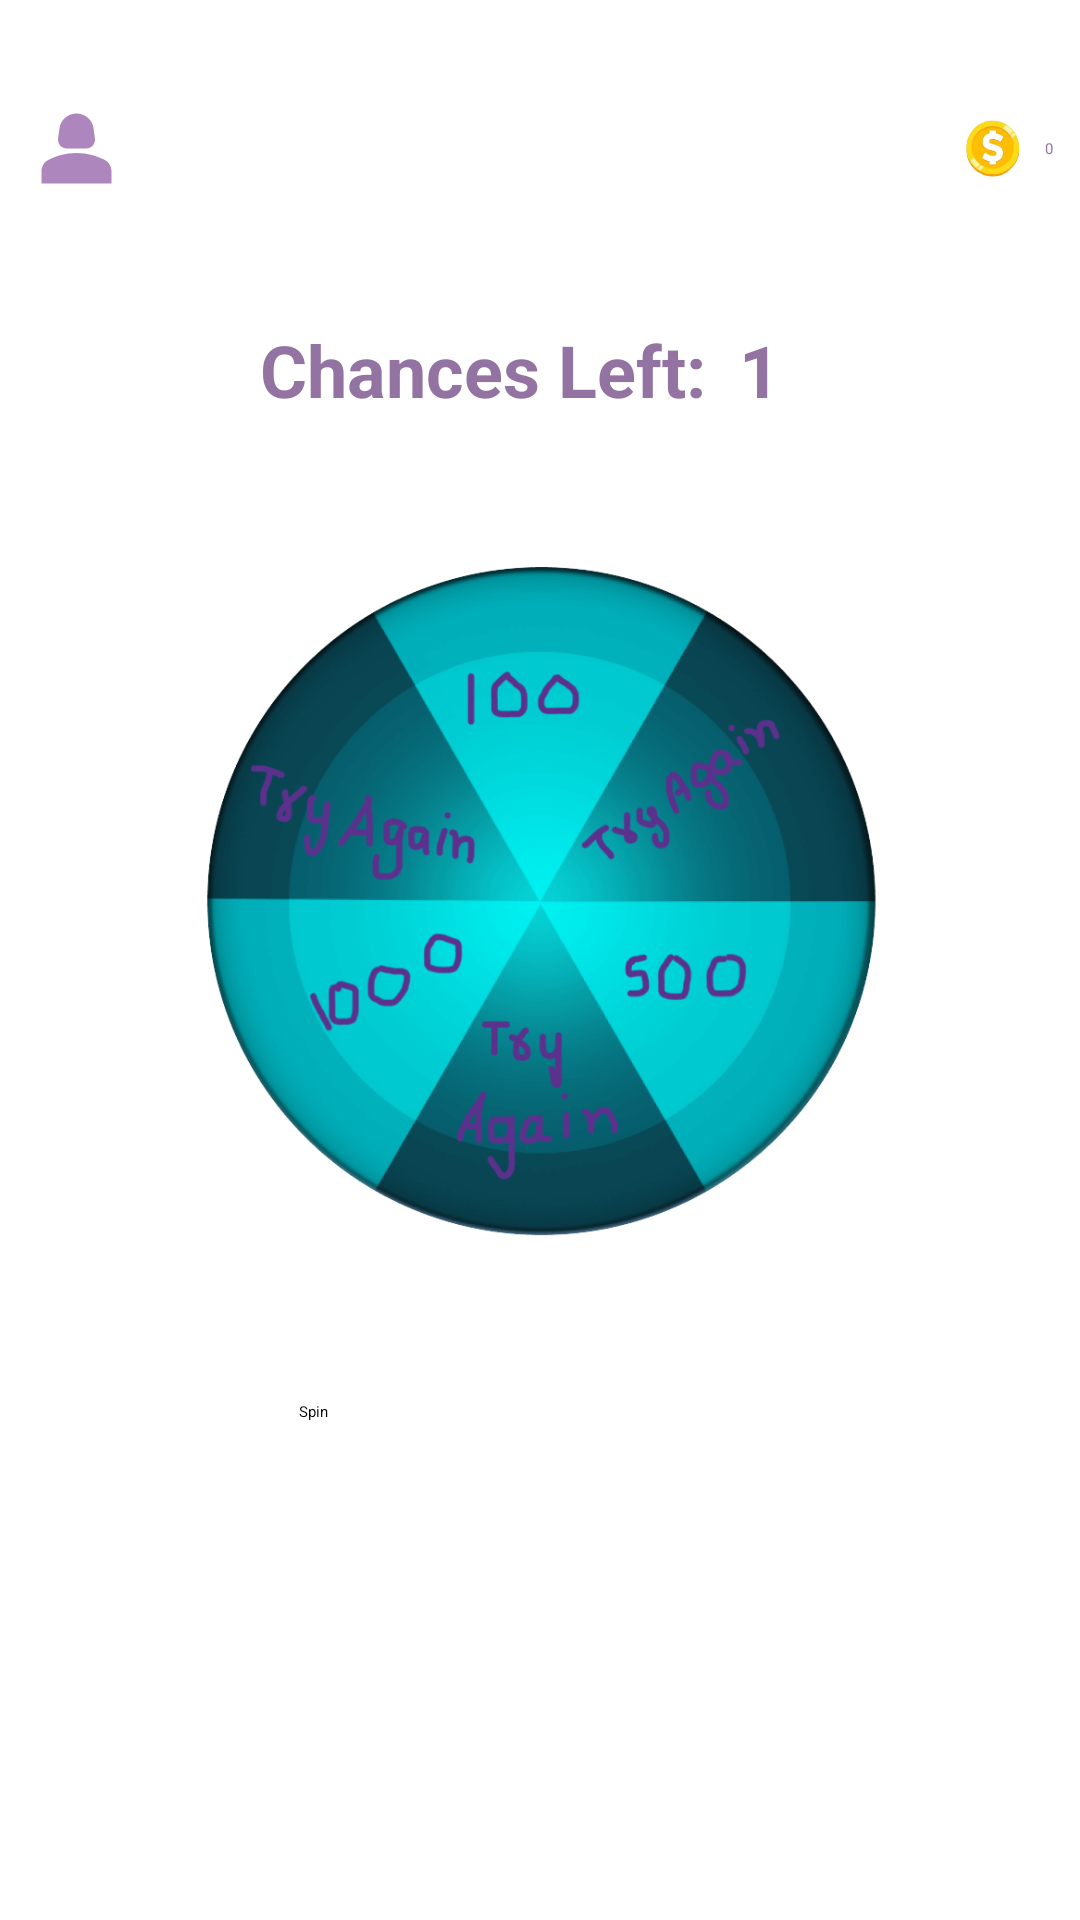

Icons on this 1080 x 1920 Android screen, each with the point to tap as point (x, y):
coin: point (993, 148)
person: point (76, 148)
